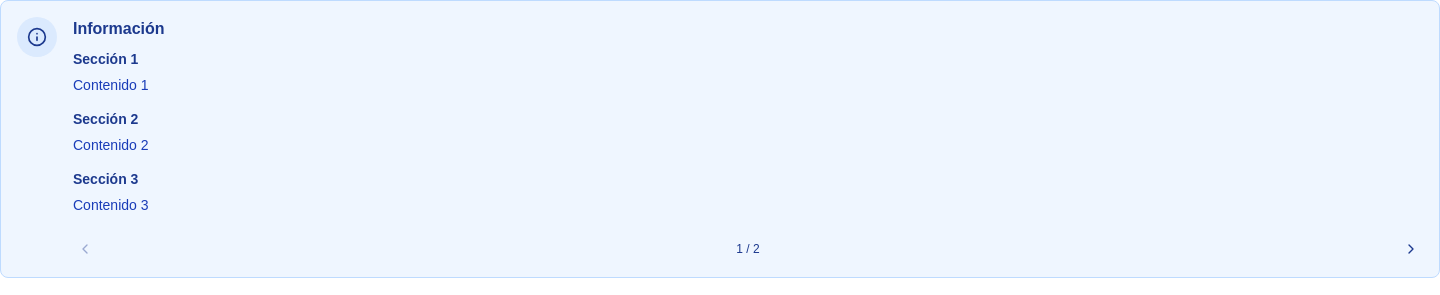
Test: InfoBanner › pagination › navigates to the next page and back
The image size is (1440, 295).
Click the button named "Siguientes secciones": (1411, 249) [1399,237,1423,261]
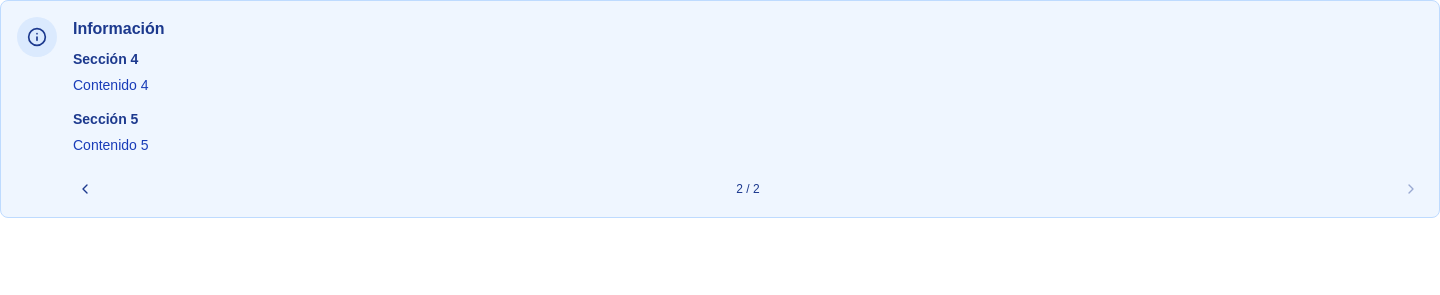
expect the heading "Sección 4" is shown: met, box [73,51,138,67]
expect the heading "Sección 5" is shown: met, box [73,111,138,127]
expect the heading "Sección 1" is gone: met
Click the button named "Secciones anteriores": (85, 189) [73,177,97,201]
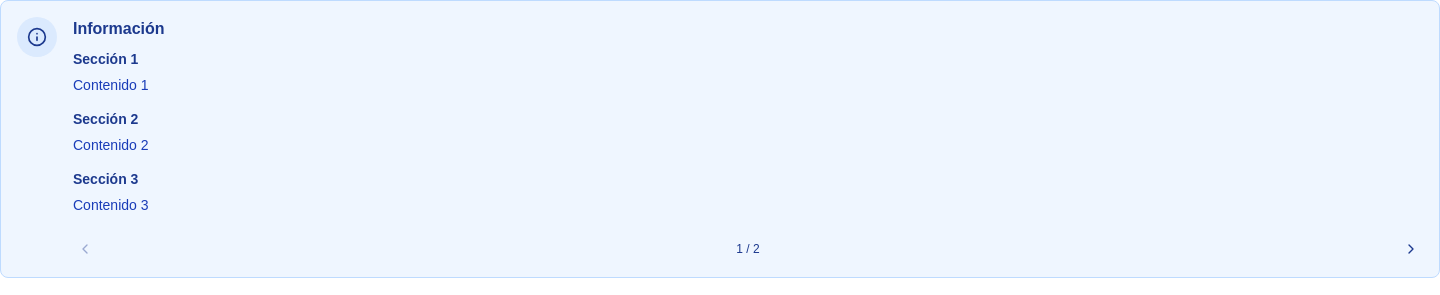
expect the heading "Sección 1" is shown: met, box [73,51,138,67]
expect the heading "Sección 4" is gone: met
expect the text "1 / 2" is shown: met, box [736,241,760,257]
